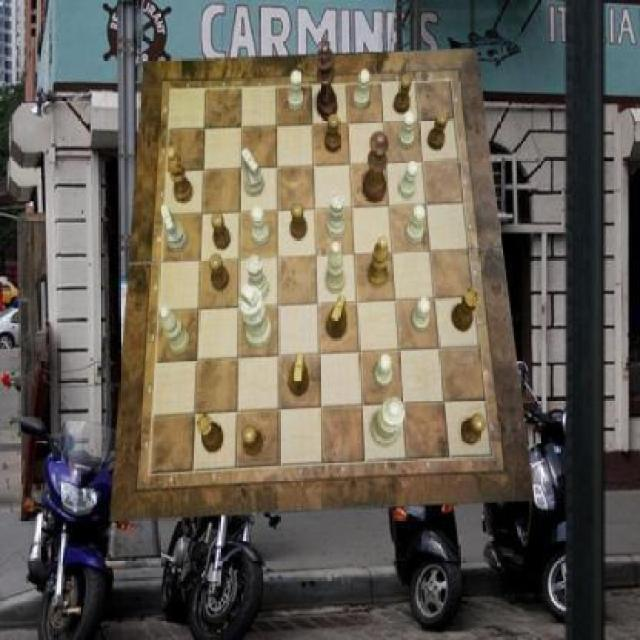bishop: (168, 148, 194, 204), (368, 237, 388, 289)
black-bishop: (315, 38, 338, 121)
black-king: (288, 354, 310, 396), (326, 296, 347, 340)
black-knight: (392, 74, 412, 114), (209, 252, 229, 290), (211, 211, 231, 249), (428, 111, 448, 149), (462, 414, 486, 444), (290, 202, 308, 239), (242, 425, 262, 457), (324, 114, 340, 154)
black-pawn: (363, 132, 390, 205)
black-queen: (451, 289, 478, 332), (197, 414, 224, 454)
black-rook: (160, 306, 190, 356), (326, 241, 346, 294)
white-bishop: (240, 283, 274, 349)
white-king: (160, 205, 188, 252), (242, 149, 264, 197)
white-knight: (406, 206, 426, 245), (400, 162, 420, 199), (251, 206, 270, 244), (354, 71, 371, 111), (288, 71, 304, 112), (399, 111, 416, 149), (375, 354, 393, 388), (412, 297, 430, 331)
white-pawn: (371, 397, 406, 448)
white-queen: (246, 255, 269, 301), (326, 192, 346, 240)
